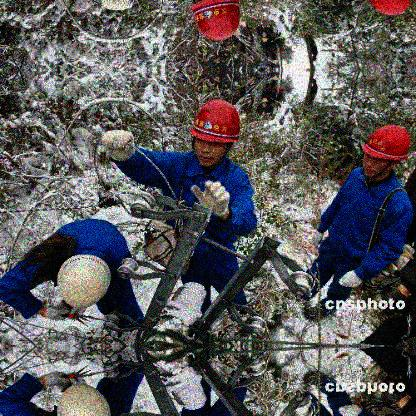helmet: (189, 98, 242, 166), (363, 124, 411, 181)
